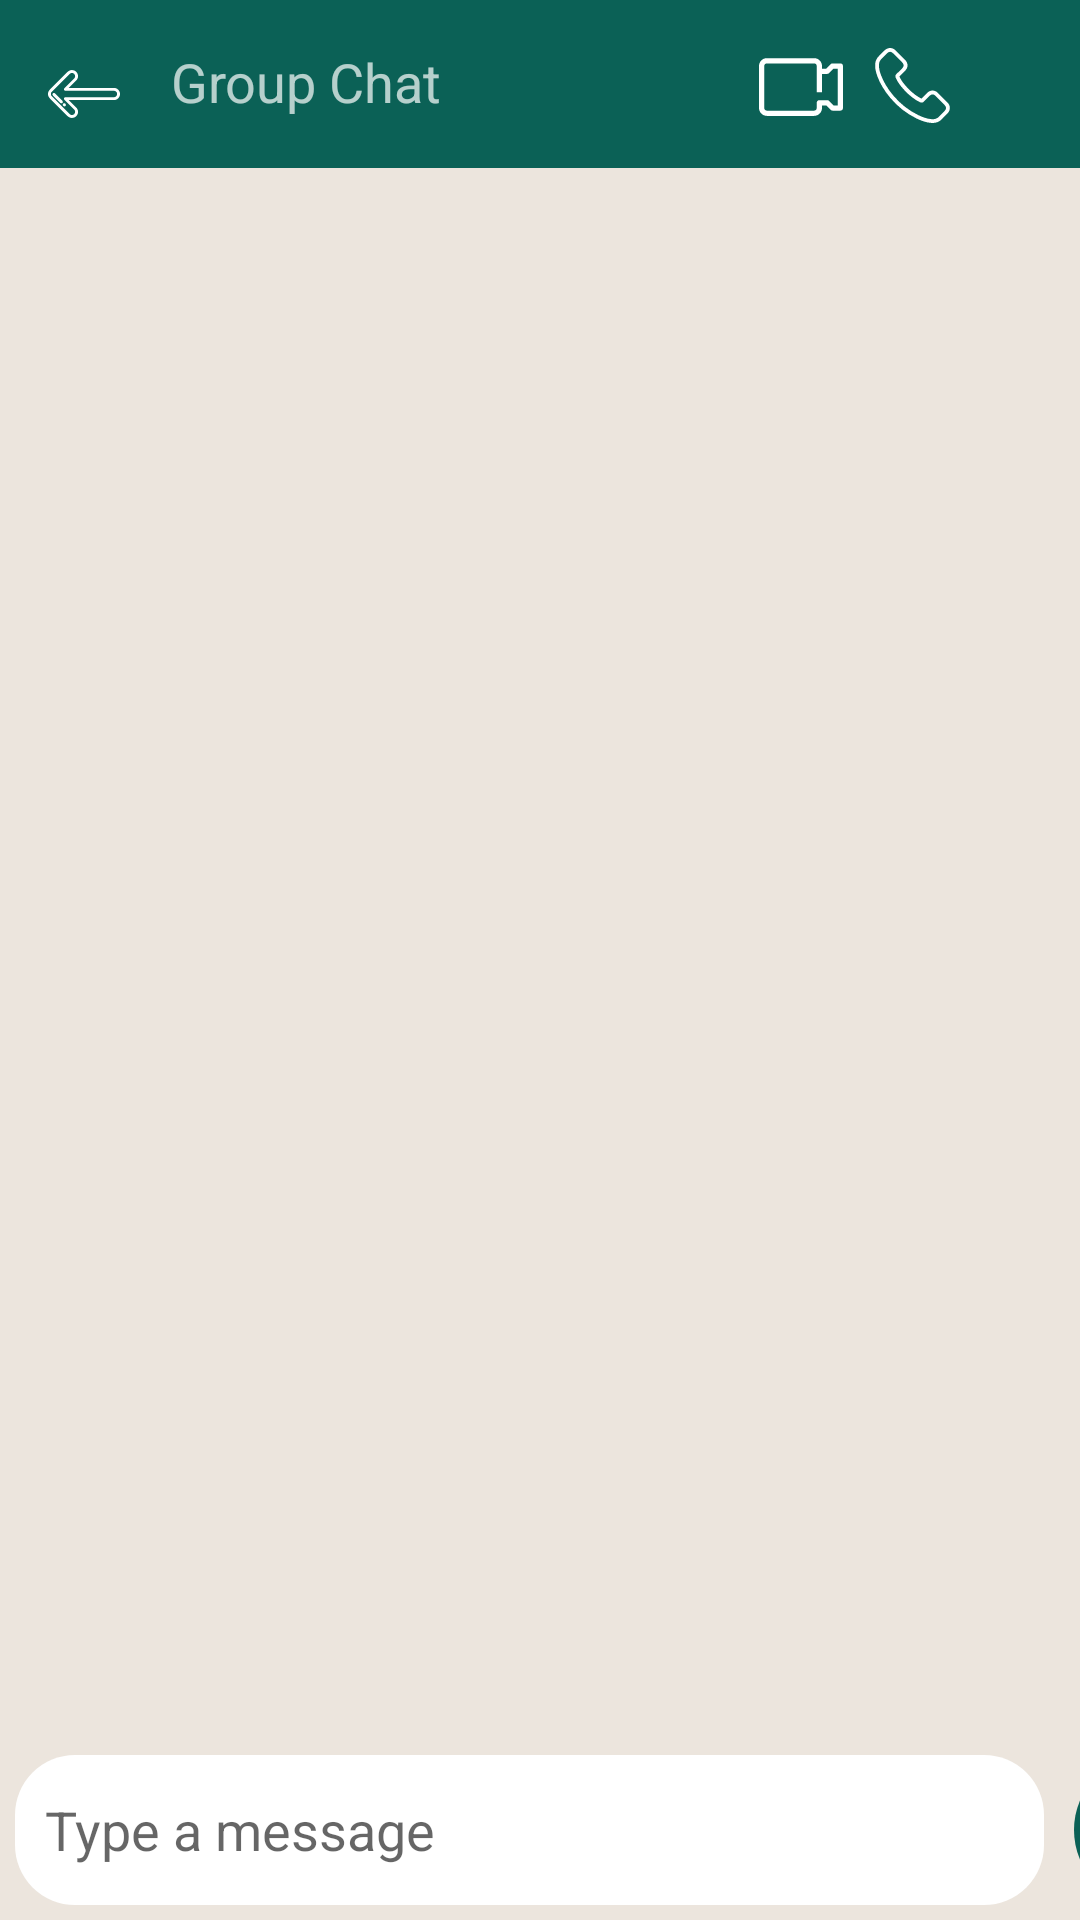

Locate icon controls on the screen. Image size 1080x1920, boxes as detection(x1, y1, x2, y2).
left arrow: detection(48, 70, 120, 118)
telephone: detection(875, 48, 950, 123)
video call: detection(759, 58, 843, 116)
